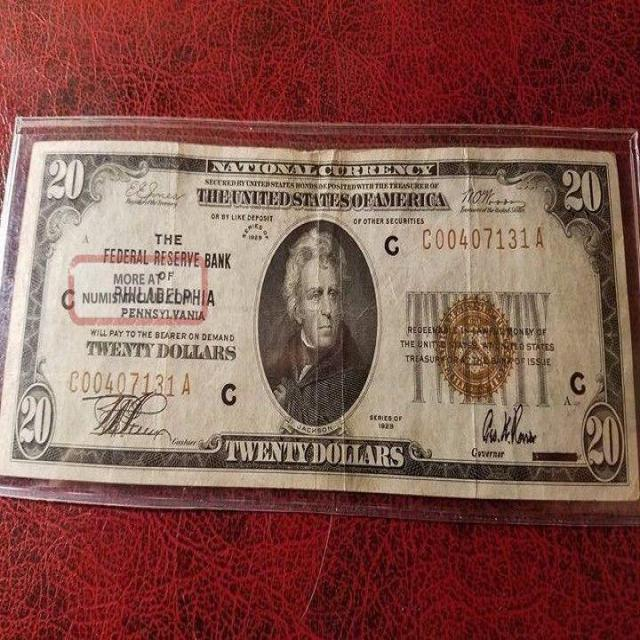20-Front: (0, 132, 640, 508)
